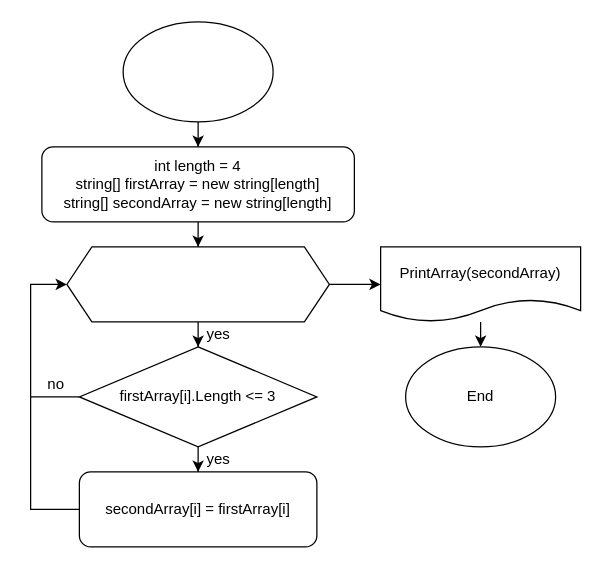
Some shapes in this 603 by 569 pixel diagram are drawn without their labels. The centre of each missing label's shape, as x and y in pixels:
for (int i = 0; i < array.Length; i++): [197,284]
Start: [197,71]
